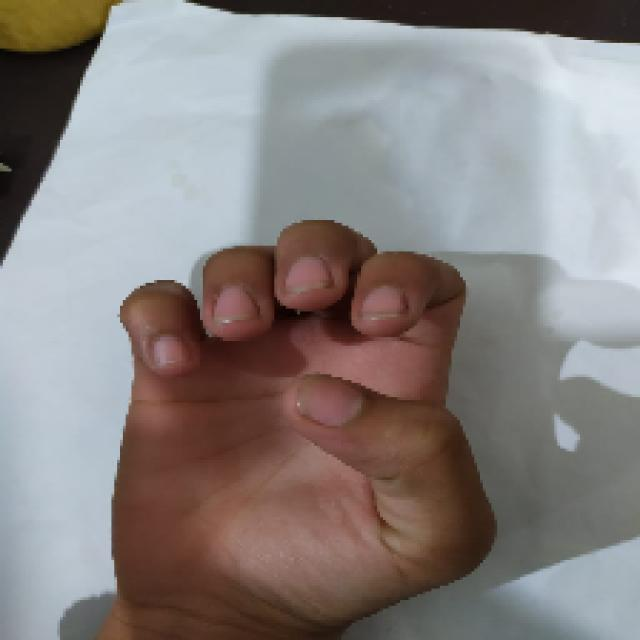Nail: (296, 375, 364, 426), (214, 285, 259, 326), (286, 256, 332, 294), (360, 287, 406, 321), (152, 336, 190, 368)
